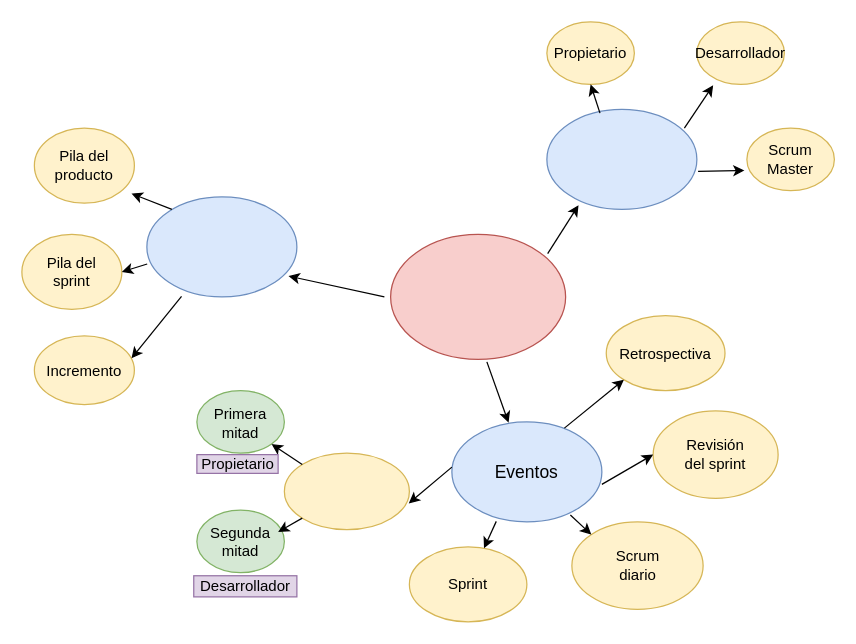
Image size: 856x644. Some labels were removed from this diagram. Each missing label, with the box of its shape:
Artefactos: (146, 196, 297, 297)
El ciclo scrum: (389, 233, 566, 359)
Planificación de sprint: (283, 452, 409, 530)
Roles: (546, 108, 697, 209)
